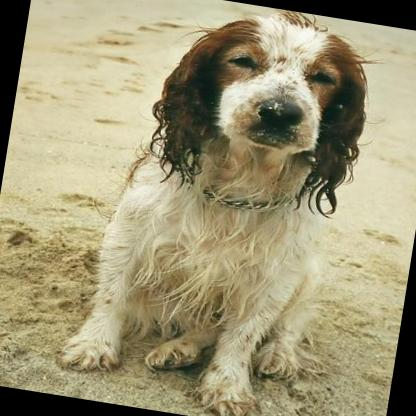Welsh_springer_spaniel: (49, 0, 382, 416)
